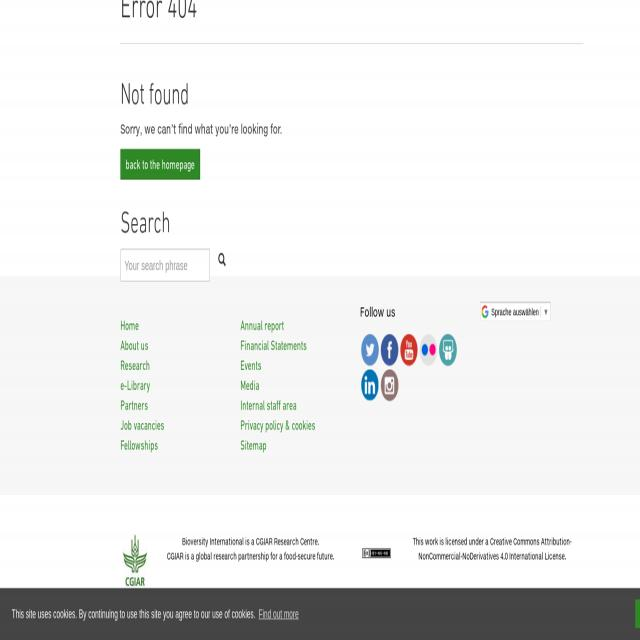button: (120, 149, 200, 179), (120, 527, 151, 588), (360, 364, 380, 400), (379, 364, 399, 400), (360, 330, 380, 364), (379, 330, 399, 364), (418, 330, 438, 364), (438, 330, 458, 364), (399, 330, 418, 364), (362, 548, 391, 559), (216, 248, 228, 268)
field: (121, 250, 210, 283), (481, 302, 551, 322)
